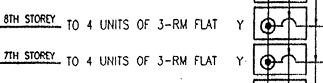Single Phase Tap-Off Unit: (250, 4, 311, 42), (248, 43, 311, 79)
